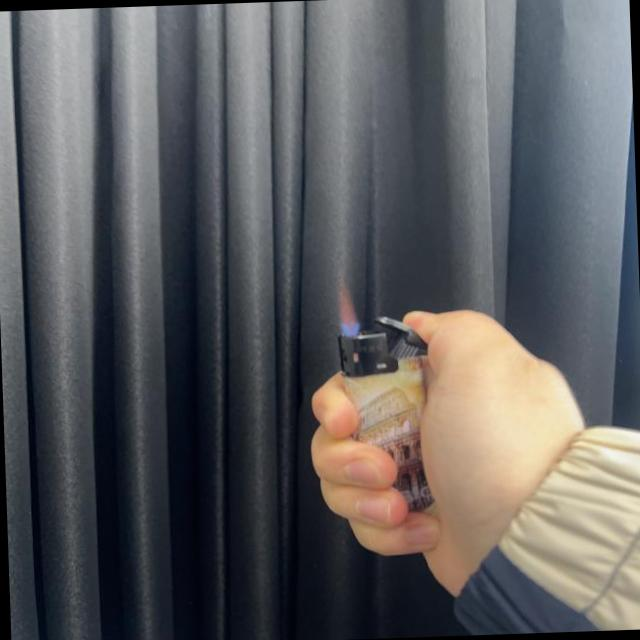Fire: (335, 280, 362, 336)
